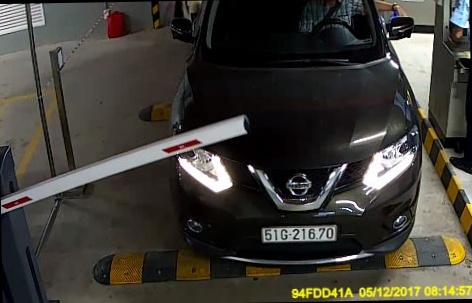plate: (259, 221, 340, 246)
